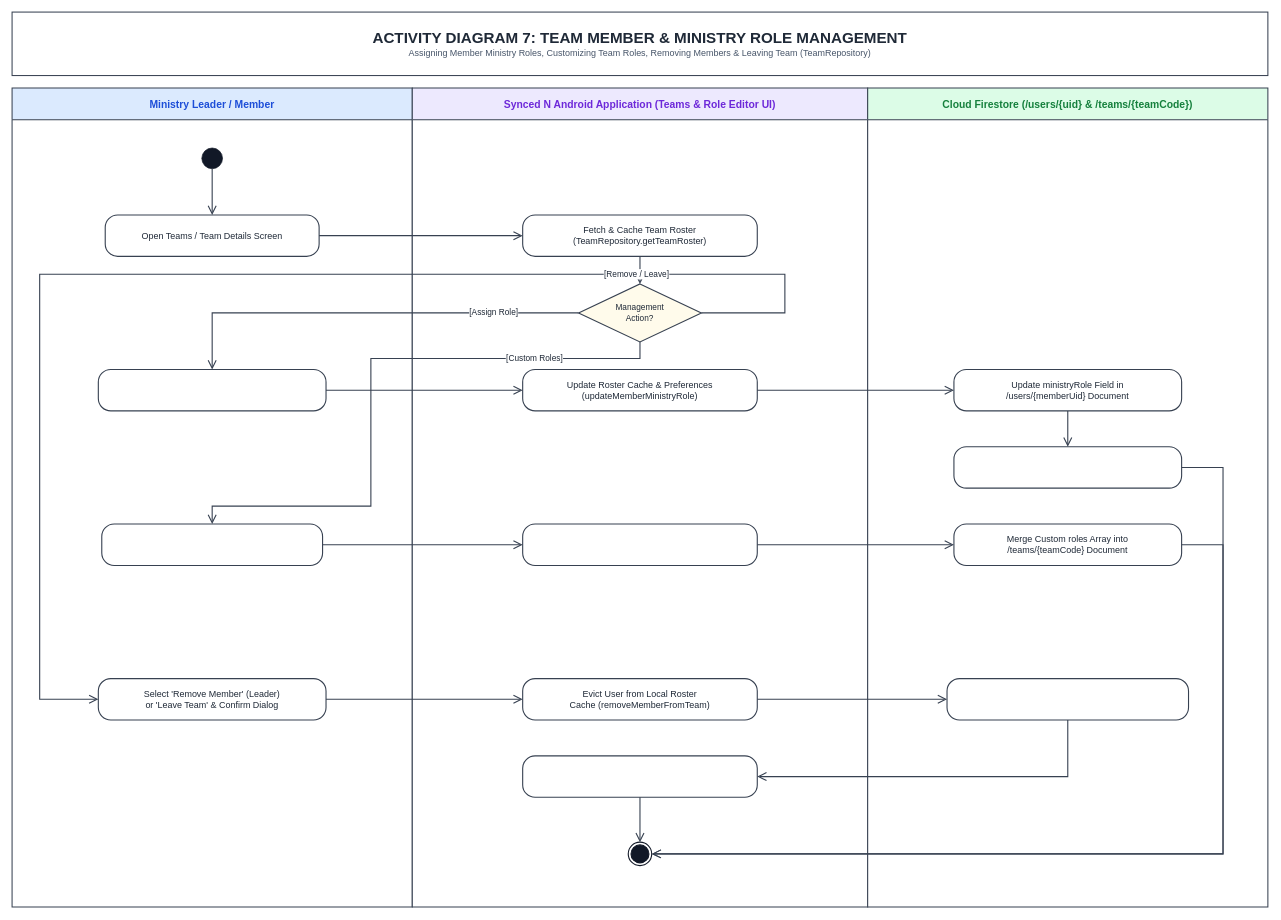
Some shapes in this 1281 by 920 pixel diagram are drawn without their labels. The centre of each missing label's shape, as x and y in pixels:
"Edit Team Role List on Team Roles Screen & Tap Save" belongs at (212,544).
"Refresh Roster (or Redirect Leaving User to Team Choice)" belongs at (639,776).
"Reset /users/{uid} Fields (teamCode='', teamName='', role='Member')" belongs at (1067,699).
"Select Team Member & Choose Ministry Role on Role Edit Screen" belongs at (211,390).
"Show 'Member role updated' & Refresh Team Roster" belongs at (1067,467).
"Validate Non-Empty List & Cache Roles (saveTeamCustomRoles)" belongs at (639,544).
